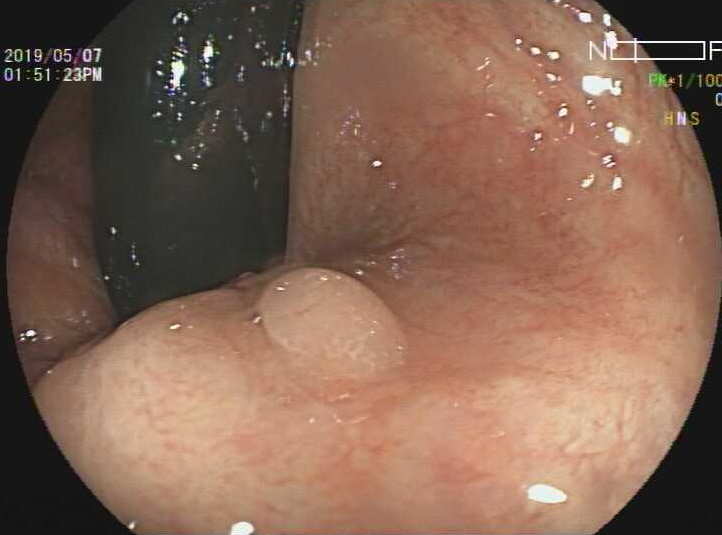others: (256, 263, 406, 377)
